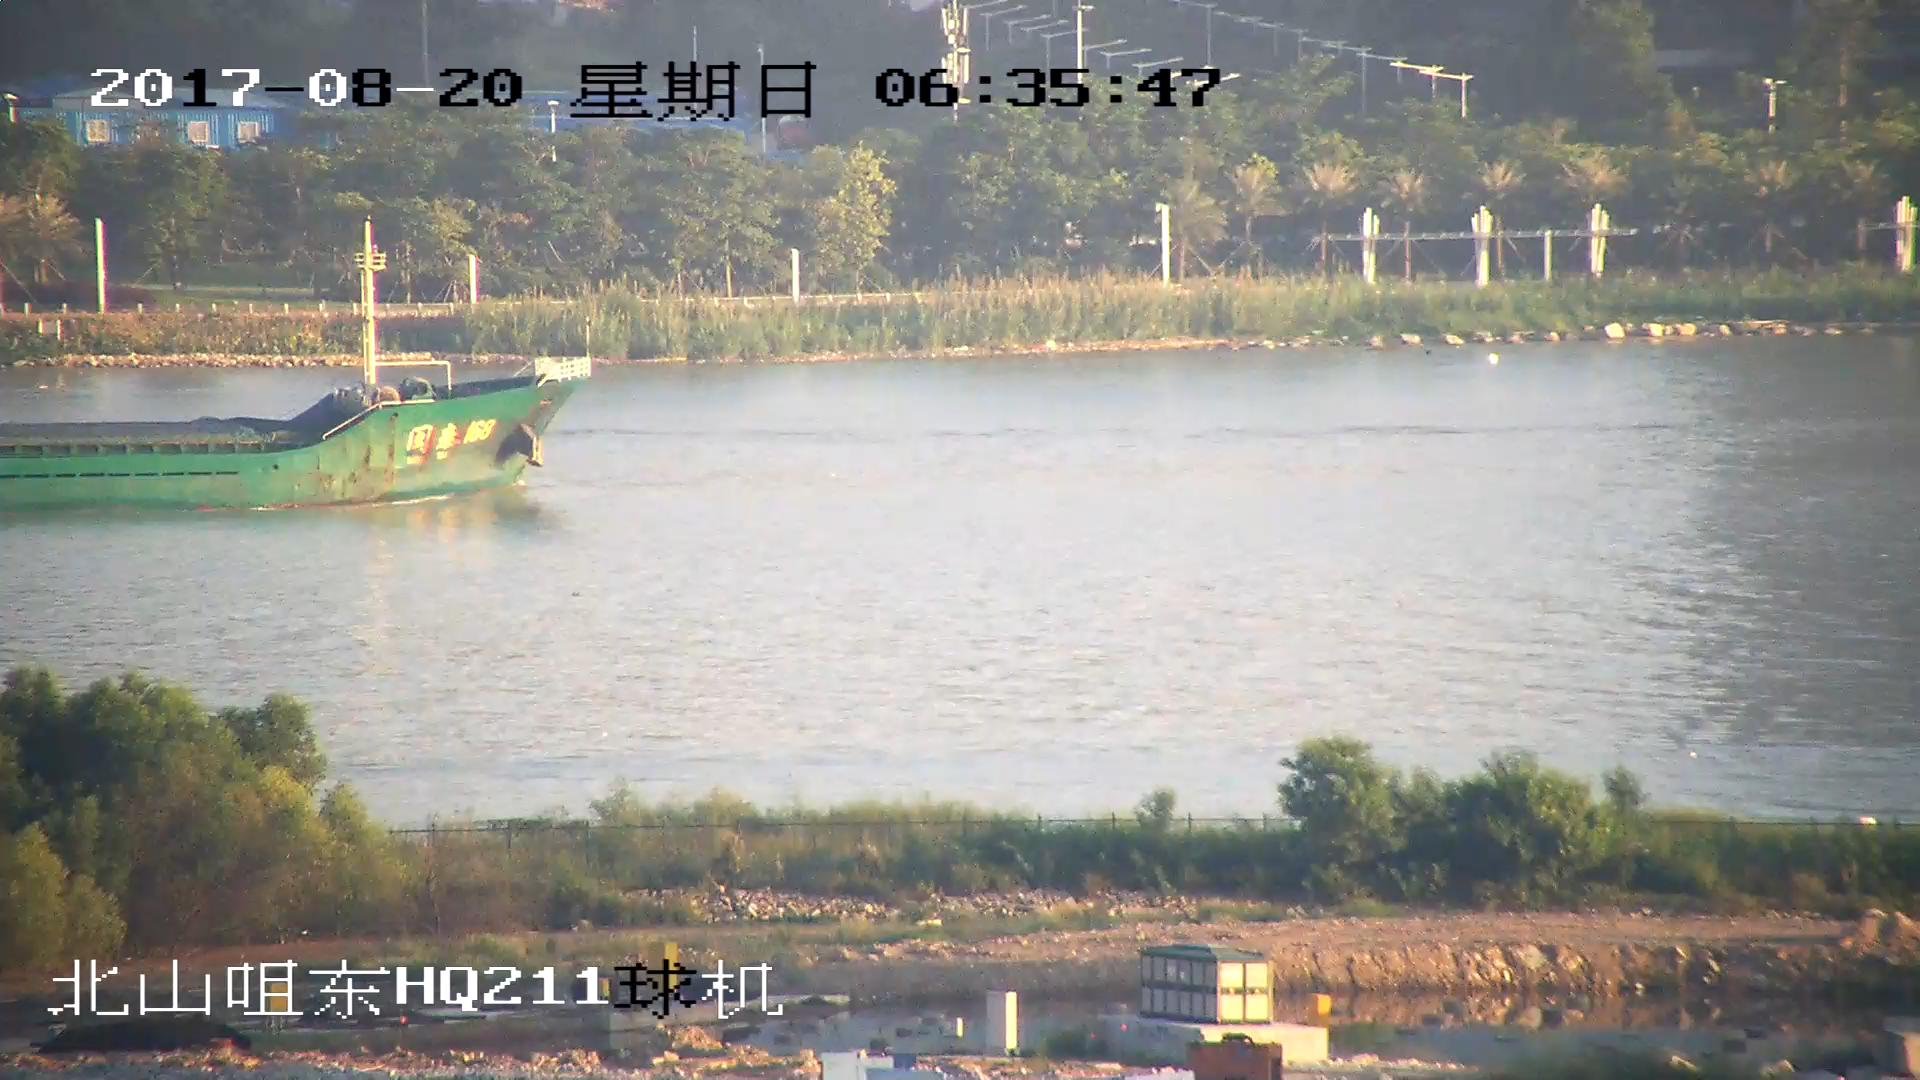general cargo ship: (1, 238, 581, 522)
